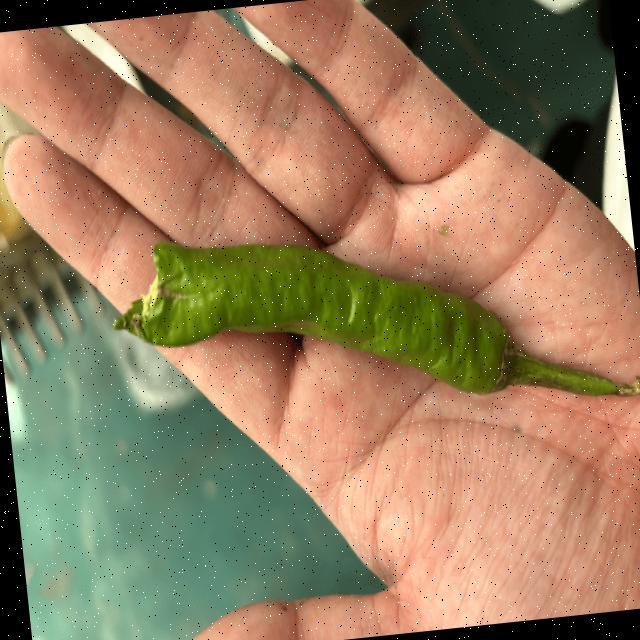chili: (109, 238, 516, 396)
